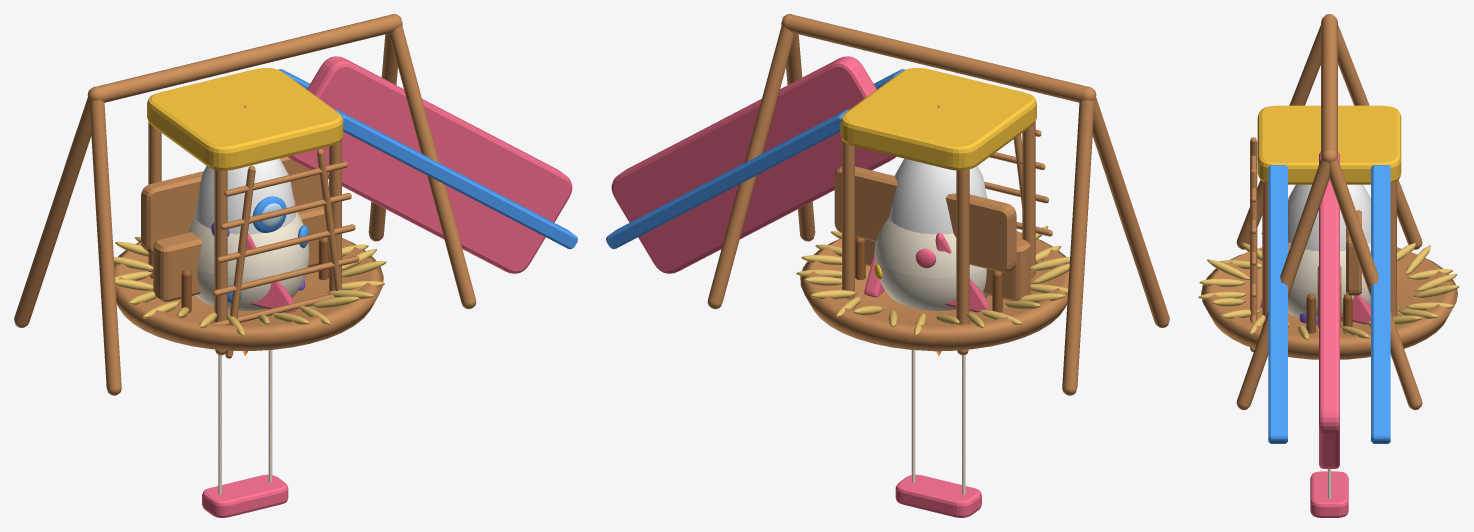
File: rewards.glb
3 renders of one model, left to right at view 1: azimuth 30°, elevation 25°; view 2: azimuth 150°, elevation 25°; view 3: azimuth 270°, elevation 25°, orthographic. The views are drawn at different scales.
Visible parts, largest first — view 1: slide, swing_frame, nest, bench, rocket, swing_seat, egg_top, egg_bottom; view 2: slide, swing_frame, nest, bench, rocket, swing_seat, egg_top, egg_bottom; view 3: slide, swing_frame, nest, rocket, swing_seat, bench, egg_top, egg_bottom.
Part boxes in pixels (bbox=[...]): slide: bbox=[147, 56, 577, 358]; swing_frame: bbox=[14, 14, 476, 395]; nest: bbox=[114, 237, 386, 350]; bench: bbox=[141, 156, 328, 313]; rocket: bbox=[194, 105, 296, 355]; swing_seat: bbox=[202, 350, 288, 517]; egg_top: bbox=[188, 212, 308, 277]; egg_bottom: bbox=[195, 250, 309, 310]; slide: bbox=[606, 56, 1052, 355]; swing_frame: bbox=[707, 14, 1169, 395]; nest: bbox=[796, 226, 1069, 350]; bench: bbox=[834, 166, 1030, 312]; rocket: bbox=[864, 105, 989, 355]; swing_seat: bbox=[895, 350, 981, 517]; egg_top: bbox=[875, 218, 986, 277]; egg_bottom: bbox=[874, 250, 988, 310]; slide: bbox=[1250, 105, 1401, 468]; swing_frame: bbox=[1236, 14, 1422, 410]; nest: bbox=[1198, 233, 1459, 359]; rocket: bbox=[1260, 184, 1370, 324]; swing_seat: bbox=[1310, 469, 1348, 517]; bench: bbox=[1306, 210, 1361, 333]; egg_top: bbox=[1288, 242, 1370, 291]; egg_bottom: bbox=[1288, 286, 1370, 324].
Bounding box in the file's own units: 4.44 × 3.79 × 2.14.
